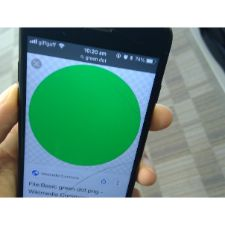focus: (26, 58, 156, 179)
